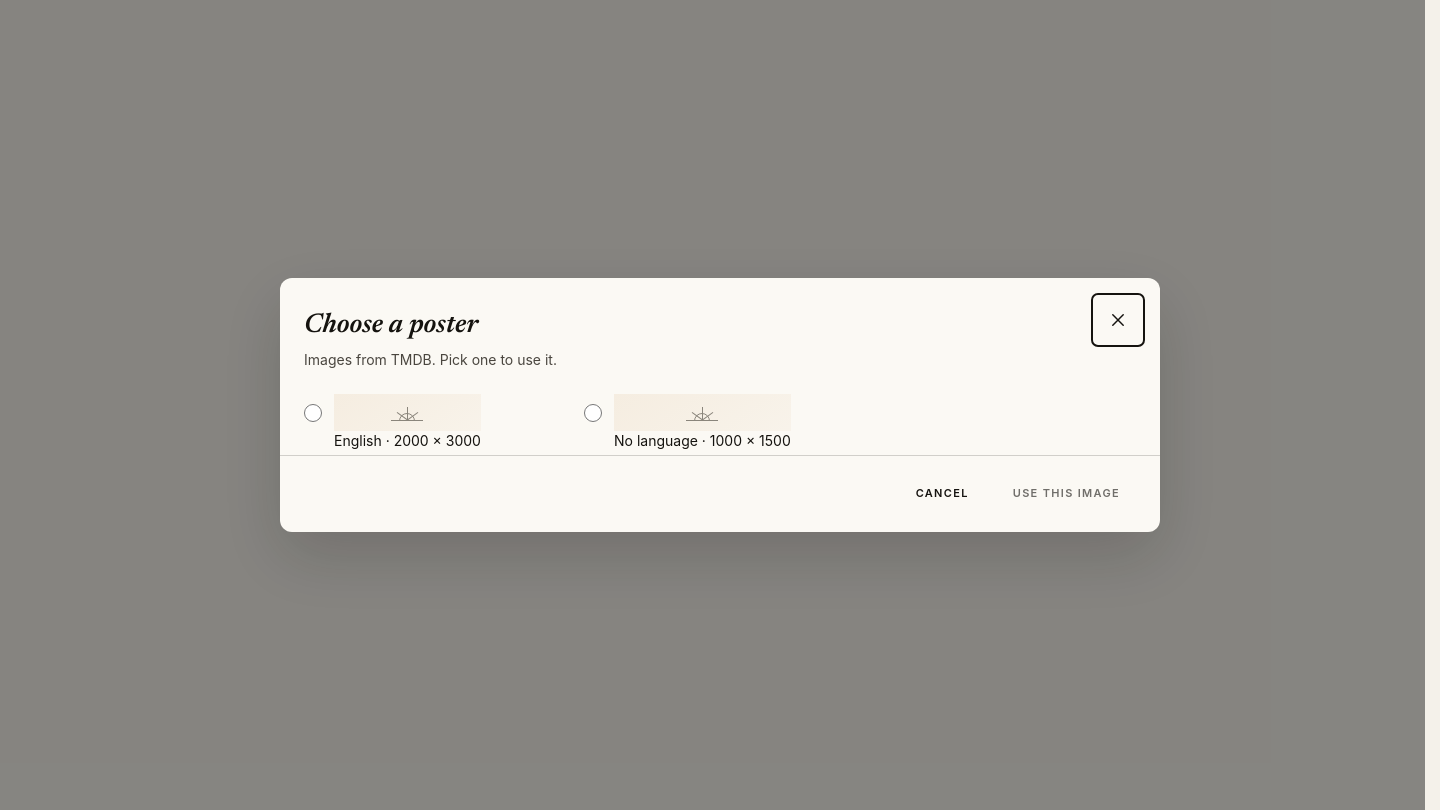
Test case: CandidateDialog › a rate limit (429) names the artwork-change limit, not the upload one
Click the radio button labelled "English · 2000 × 3000": x=313, y=413 [304, 404, 322, 422]
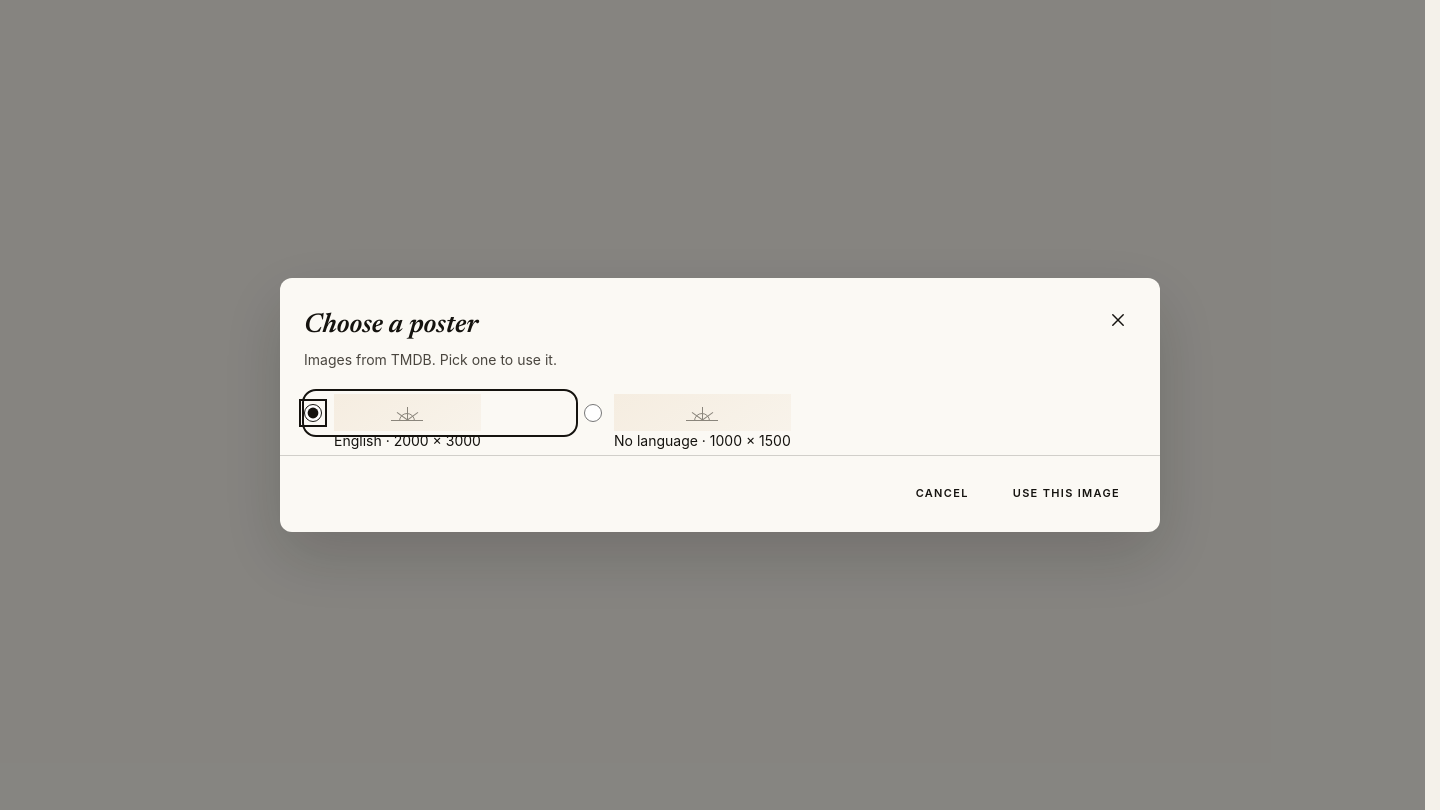
Click the button "Use this image": x=1066, y=494 [997, 472, 1136, 516]
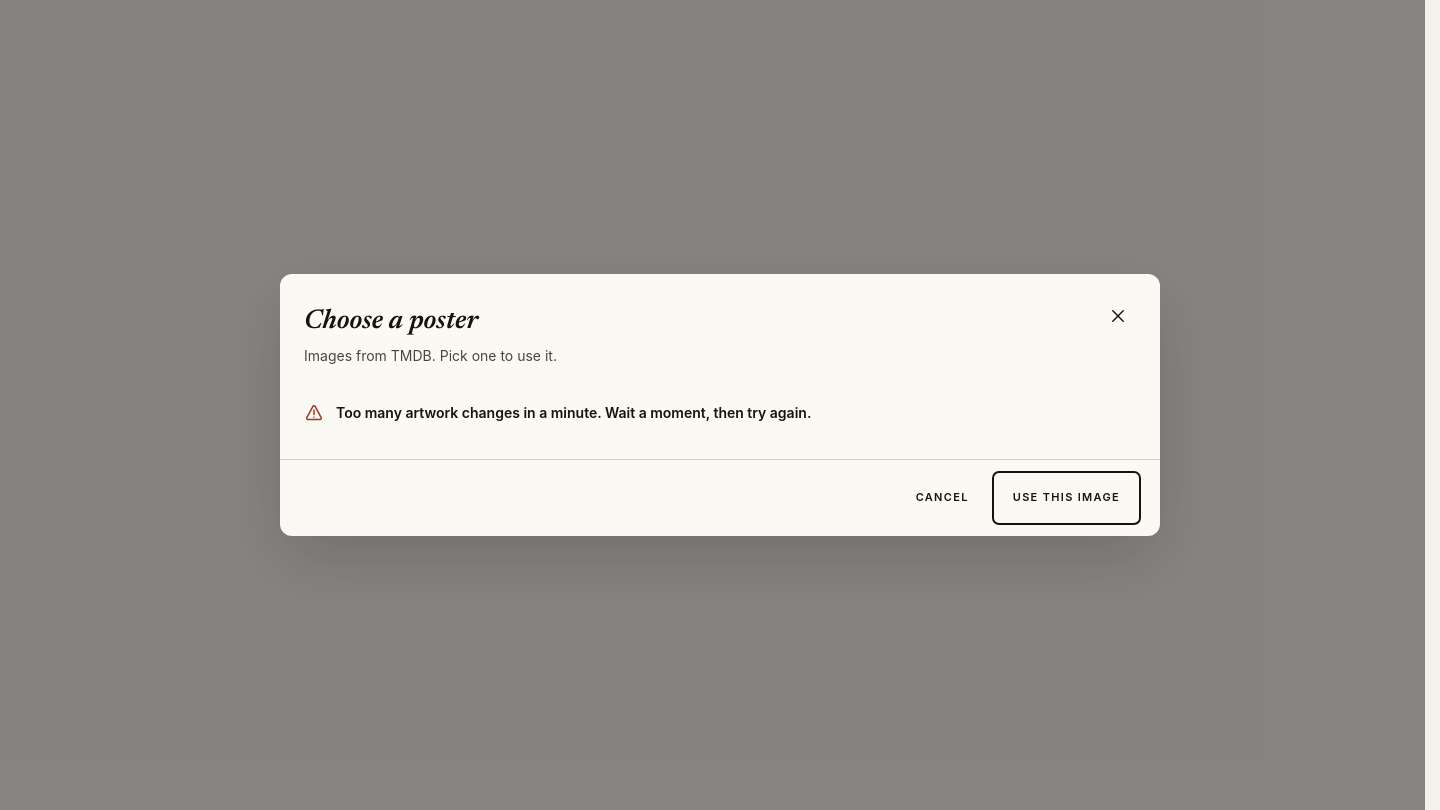
Check: the text "Too many artwork changes in a minute. Wait a moment, then try again." is shown, box [336, 402, 811, 423]
